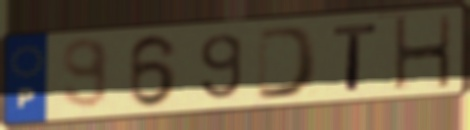6: (126, 32, 180, 111)
9: (60, 36, 111, 117), (197, 32, 245, 102)
D: (253, 24, 322, 102)
H: (391, 12, 453, 94)
T: (330, 20, 382, 93)
